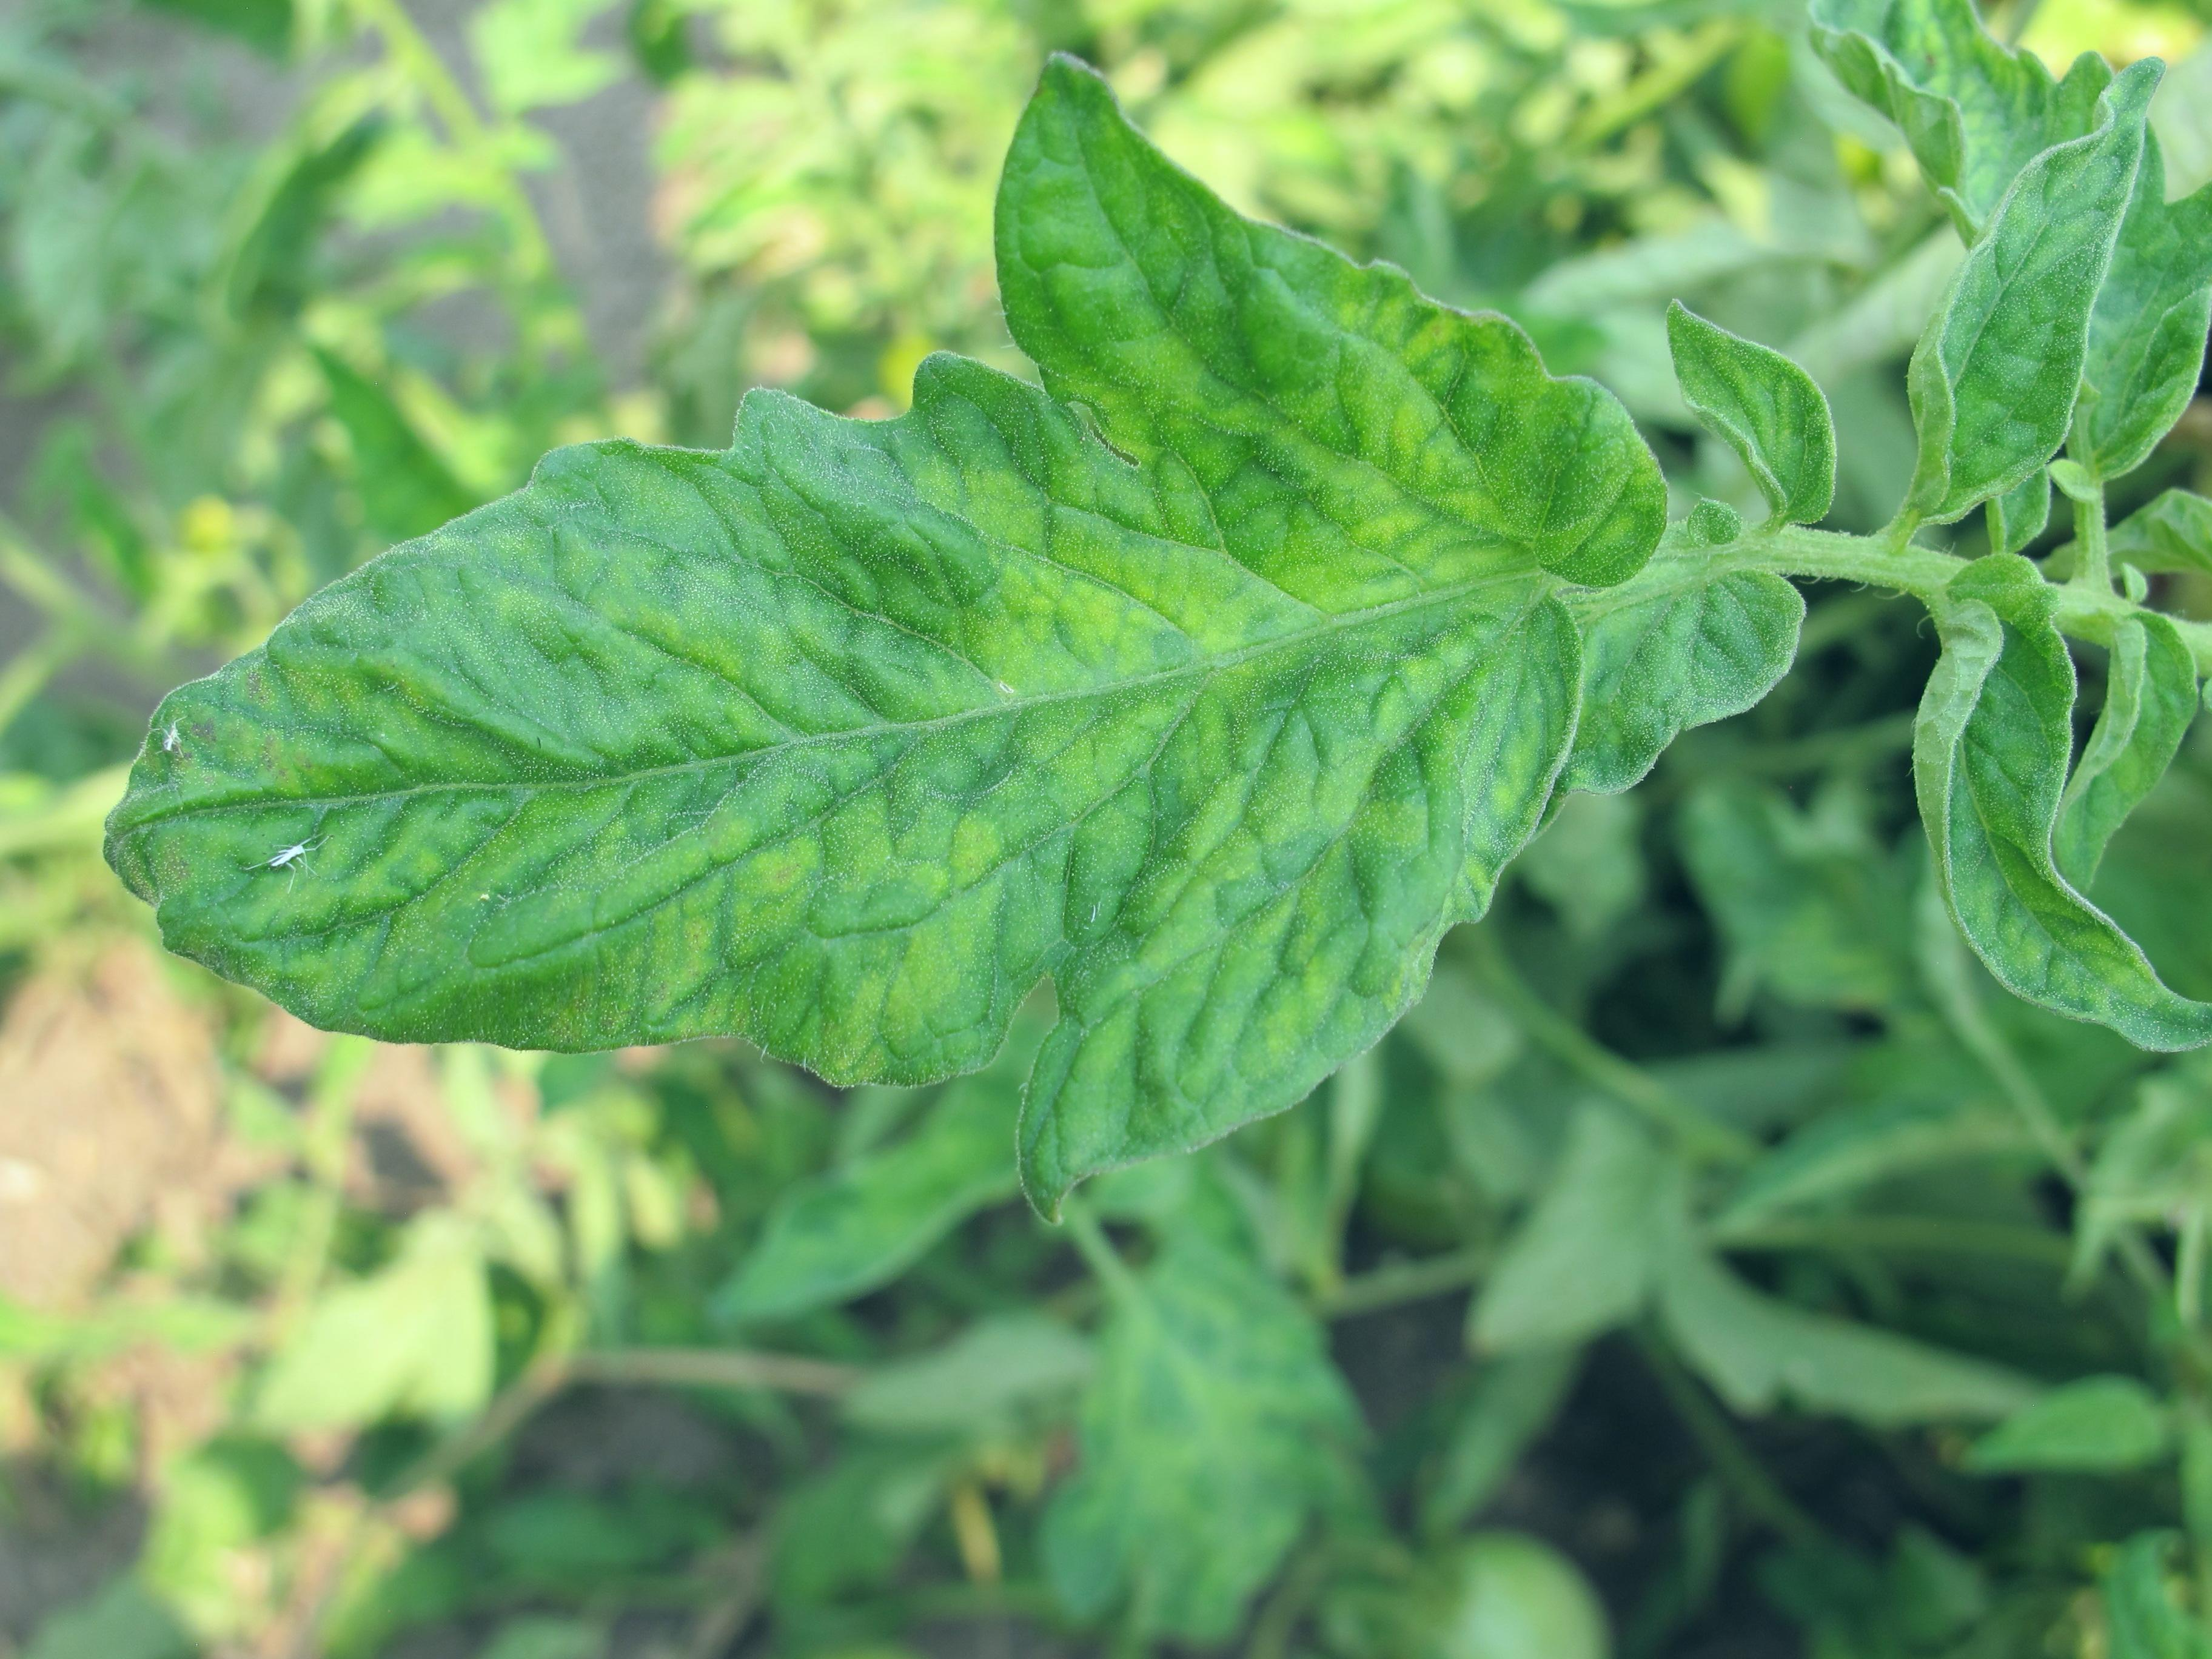Tomato leaf mosaic virus: (96, 92, 1829, 1274)
